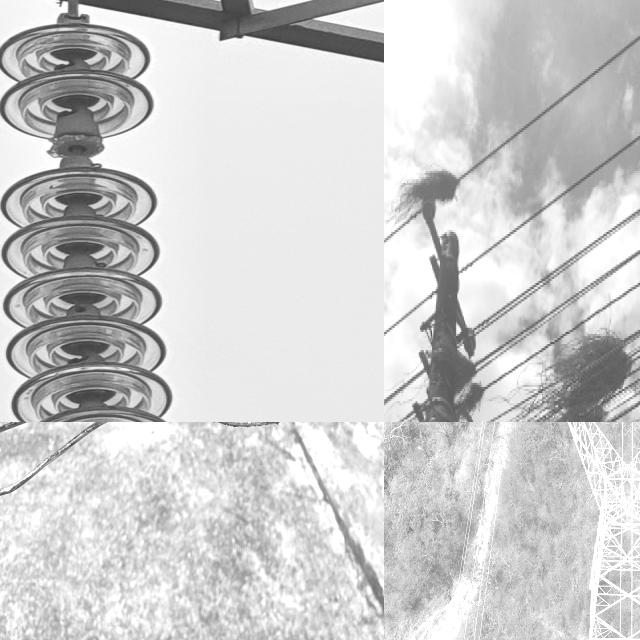杆塔: (475, 422, 640, 640)
植被遮挡: (523, 333, 636, 422), (384, 169, 462, 229)
正常绝缘子: (0, 0, 202, 422)
电缆破损: (0, 422, 295, 502)
绝缘子破损: (43, 124, 108, 162)
